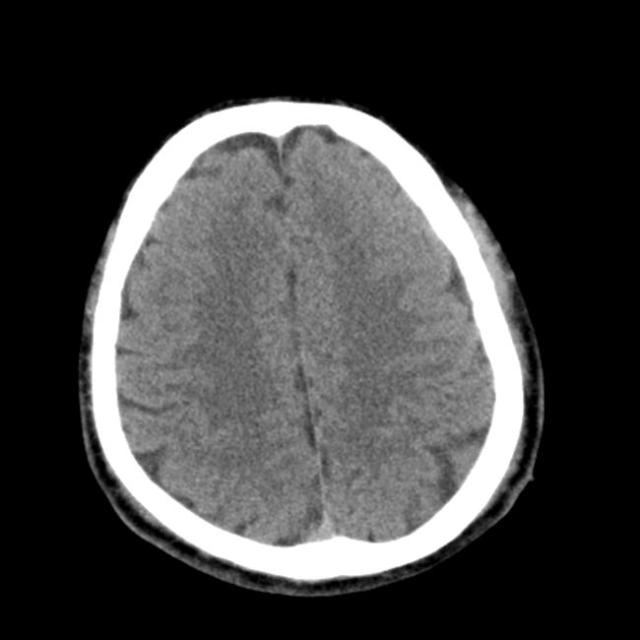lesion: (76, 94, 546, 594)
